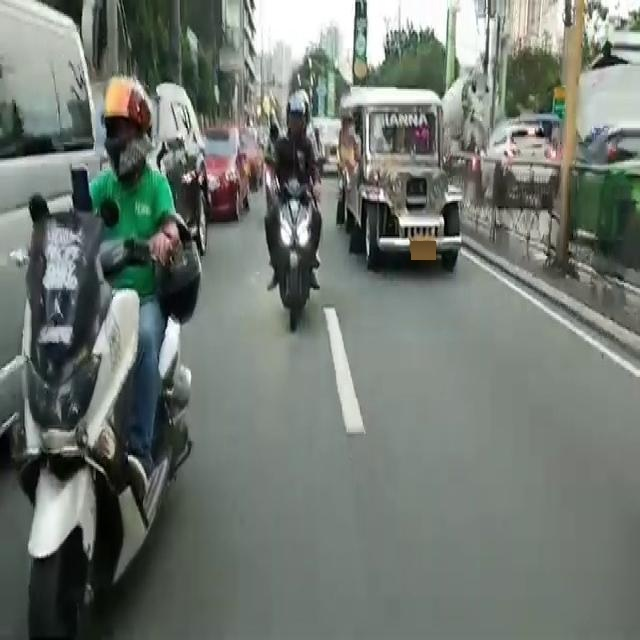car: (476, 129, 564, 236), (574, 144, 640, 252), (205, 121, 251, 235)
jeepney: (324, 84, 466, 284)
motorcycle: (40, 112, 194, 602), (276, 104, 322, 353)
